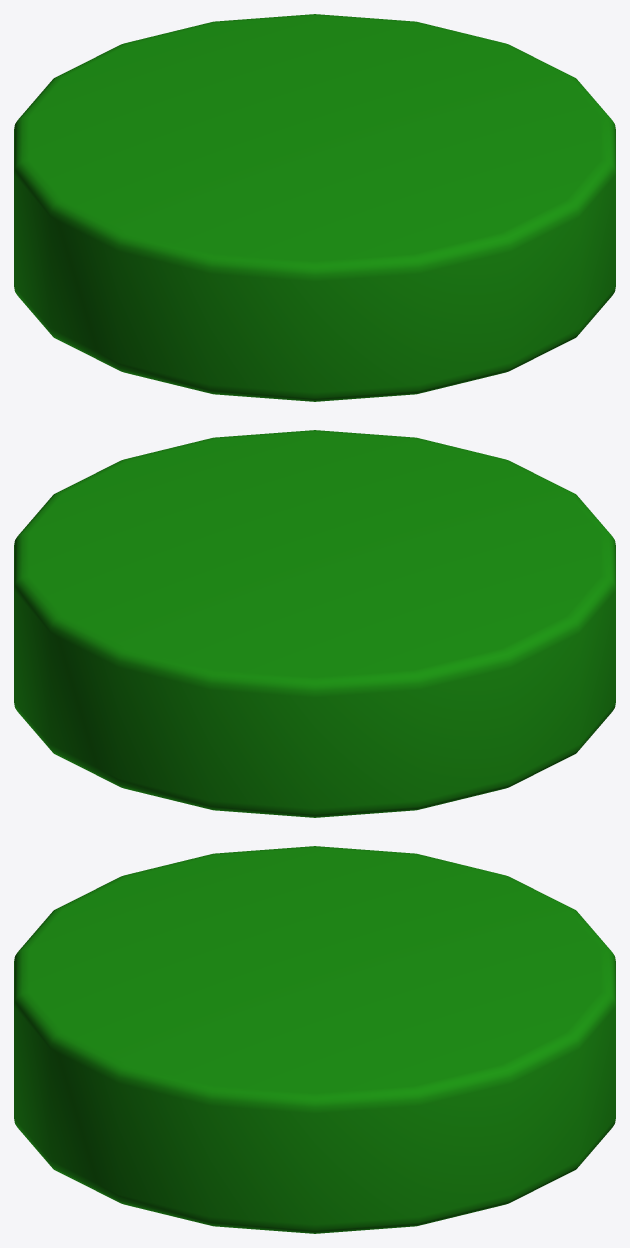
File: Cylindre_02.fbx
3 renders of one model, top to bottom at view 1: azimuth 30°, elevation 25°; view 2: azimuth 150°, elevation 25°; view 3: azimuth 270°, elevation 25°, orthographic.
Visible parts, largest first — view 1: Cylindre_02; view 2: Cylindre_02; view 3: Cylindre_02.
Boxes of the visible parts, x1,y1,x2,y2 form: Cylindre_02: (14,14,615,401); Cylindre_02: (14,430,615,817); Cylindre_02: (14,846,615,1233).
Size of the model in its own units: 4 by 3.94 by 1.
